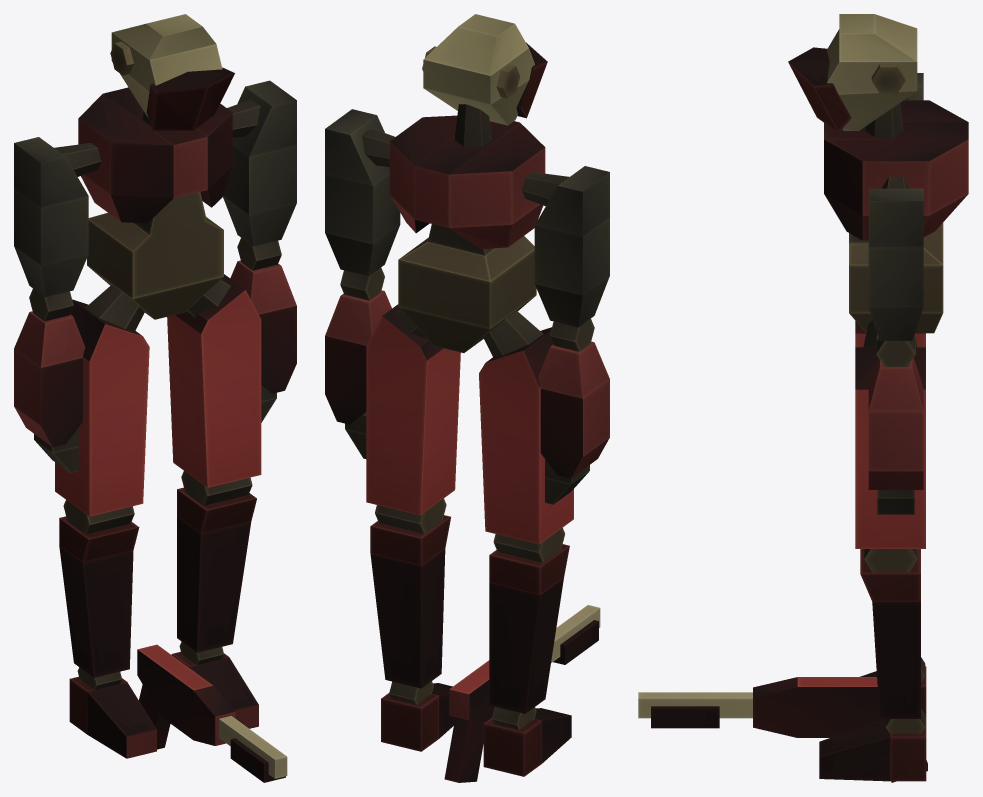
File: unit_Infantry_Light_A.fbx
3 renders of one model, left to right at view 1: azimuth 30°, elevation 25°; view 2: azimuth 150°, elevation 25°; view 3: azimuth 270°, elevation 25°, orthographic. The views are drawn at different scales.
Visible parts, largest first — view 1: unit_Infantry_Light_A_Leg_L_Upper, unit_Infantry_Light_A_Chest, unit_Infantry_Light_A_Leg_R_Upper, unit_Infantry_Light_A_Torso, unit_Infantry_Light_A_Leg_L_Lower, unit_Infantry_Light_A_Leg_R_Lower, unit_Infantry_Light_A_Head, unit_Infantry_Light_A_Arm_R_Upper, unit_Infantry_Light_A_Arm_L_Upper, unit_Infantry_Light_A_Arm_R_Lower, unit_Infantry_Light_A_Weapon_A, unit_Infantry_Light_A_Arm_L_Lower (+3 smaller); view 2: unit_Infantry_Light_A_Chest, unit_Infantry_Light_A_Leg_L_Upper, unit_Infantry_Light_A_Leg_R_Upper, unit_Infantry_Light_A_Torso, unit_Infantry_Light_A_Leg_L_Lower, unit_Infantry_Light_A_Leg_R_Lower, unit_Infantry_Light_A_Arm_R_Upper, unit_Infantry_Light_A_Head, unit_Infantry_Light_A_Arm_L_Upper, unit_Infantry_Light_A_Arm_R_Lower, unit_Infantry_Light_A_Arm_L_Lower, unit_Infantry_Light_A_Weapon_A (+4 smaller); view 3: unit_Infantry_Light_A_Chest, unit_Infantry_Light_A_Weapon_A, unit_Infantry_Light_A_Head, unit_Infantry_Light_A_Leg_L_Lower, unit_Infantry_Light_A_Arm_L_Upper, unit_Infantry_Light_A_Arm_L_Lower, unit_Infantry_Light_A_Leg_L_Upper, unit_Infantry_Light_A_Foot_L, unit_Infantry_Light_A_Torso, unit_Infantry_Light_A_Hand_L.
Boxes of the visible parts, bbox=[...] form: unit_Infantry_Light_A_Leg_L_Upper: bbox=[167, 274, 261, 487]; unit_Infantry_Light_A_Chest: bbox=[54, 87, 260, 223]; unit_Infantry_Light_A_Leg_R_Upper: bbox=[55, 284, 149, 516]; unit_Infantry_Light_A_Torso: bbox=[87, 192, 223, 319]; unit_Infantry_Light_A_Leg_L_Lower: bbox=[177, 471, 256, 652]; unit_Infantry_Light_A_Leg_R_Lower: bbox=[59, 500, 139, 677]; unit_Infantry_Light_A_Head: bbox=[110, 14, 234, 130]; unit_Infantry_Light_A_Arm_R_Upper: bbox=[14, 137, 88, 297]; unit_Infantry_Light_A_Arm_L_Upper: bbox=[223, 80, 296, 246]; unit_Infantry_Light_A_Arm_R_Lower: bbox=[14, 288, 85, 447]; unit_Infantry_Light_A_Weapon_A: bbox=[137, 644, 287, 782]; unit_Infantry_Light_A_Arm_L_Lower: bbox=[230, 238, 296, 393]; unit_Infantry_Light_A_Chest: bbox=[362, 104, 569, 249]; unit_Infantry_Light_A_Leg_L_Upper: bbox=[366, 304, 460, 515]; unit_Infantry_Light_A_Leg_R_Upper: bbox=[479, 310, 573, 544]; unit_Infantry_Light_A_Torso: bbox=[398, 224, 536, 352]; unit_Infantry_Light_A_Leg_L_Lower: bbox=[370, 498, 450, 688]; unit_Infantry_Light_A_Leg_R_Lower: bbox=[489, 528, 569, 713]; unit_Infantry_Light_A_Arm_R_Upper: bbox=[534, 166, 609, 327]; unit_Infantry_Light_A_Head: bbox=[422, 14, 547, 125]; unit_Infantry_Light_A_Arm_L_Upper: bbox=[325, 109, 400, 276]; unit_Infantry_Light_A_Arm_R_Lower: bbox=[538, 318, 609, 478]; unit_Infantry_Light_A_Arm_L_Lower: bbox=[325, 267, 391, 424]; unit_Infantry_Light_A_Weapon_A: bbox=[444, 605, 600, 782]; unit_Infantry_Light_A_Chest: bbox=[824, 98, 968, 240]; unit_Infantry_Light_A_Weapon_A: bbox=[638, 677, 927, 782]; unit_Infantry_Light_A_Head: bbox=[788, 14, 917, 132]; unit_Infantry_Light_A_Leg_L_Lower: bbox=[860, 549, 920, 718]; unit_Infantry_Light_A_Arm_L_Upper: bbox=[868, 188, 923, 340]; unit_Infantry_Light_A_Arm_L_Lower: bbox=[868, 338, 923, 489]; unit_Infantry_Light_A_Leg_L_Upper: bbox=[855, 321, 925, 548]; unit_Infantry_Light_A_Foot_L: bbox=[819, 708, 926, 781]; unit_Infantry_Light_A_Torso: bbox=[849, 222, 943, 333]; unit_Infantry_Light_A_Hand_L: bbox=[877, 490, 914, 514].
Bounding box in the file's own units: 88.32 × 243 × 96.38.
